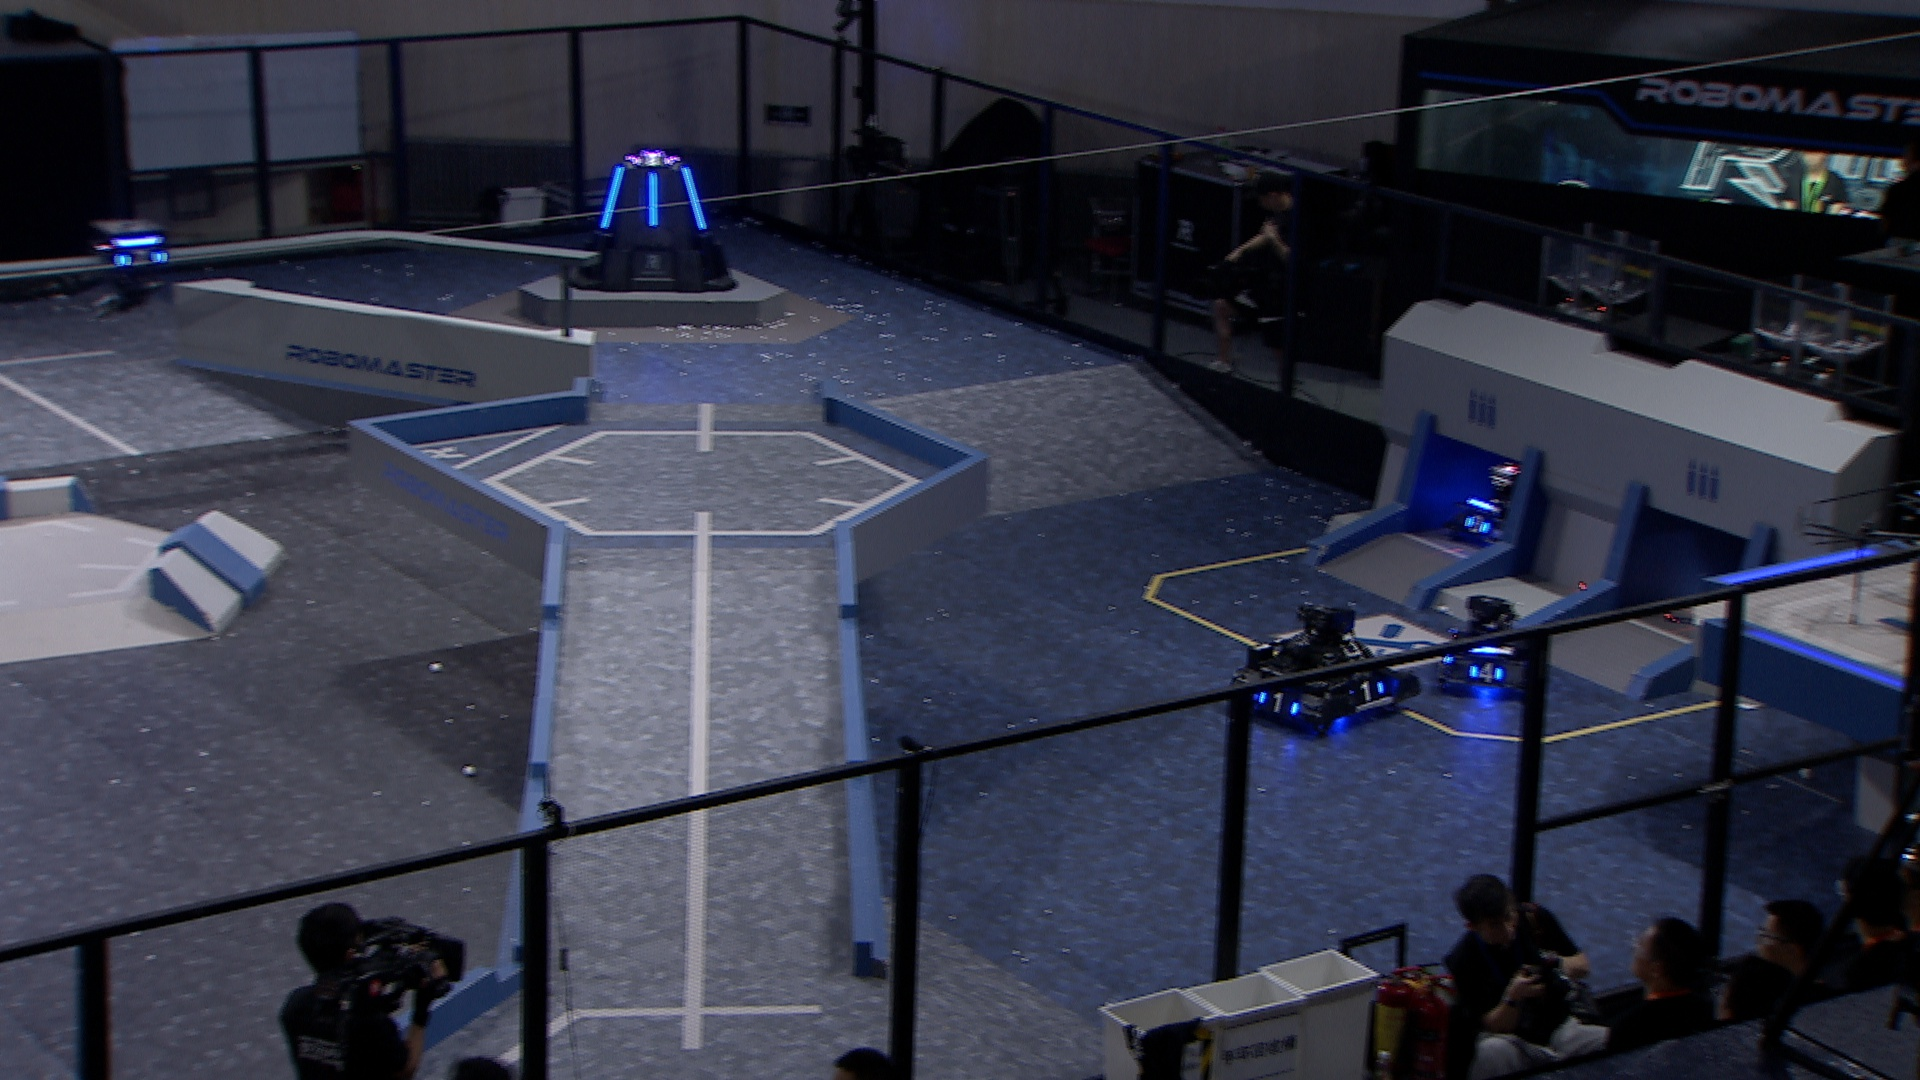armor: (599, 164, 626, 233), (680, 166, 709, 232), (1251, 688, 1300, 716), (116, 249, 167, 270), (1349, 679, 1387, 703), (1466, 665, 1506, 687), (646, 171, 661, 228), (1462, 514, 1493, 537)
base: (562, 144, 737, 291)
car: (1218, 597, 1419, 736), (1429, 591, 1539, 698), (1447, 465, 1539, 543)
ignore: (626, 153, 680, 167)
watcher: (83, 215, 174, 318)
